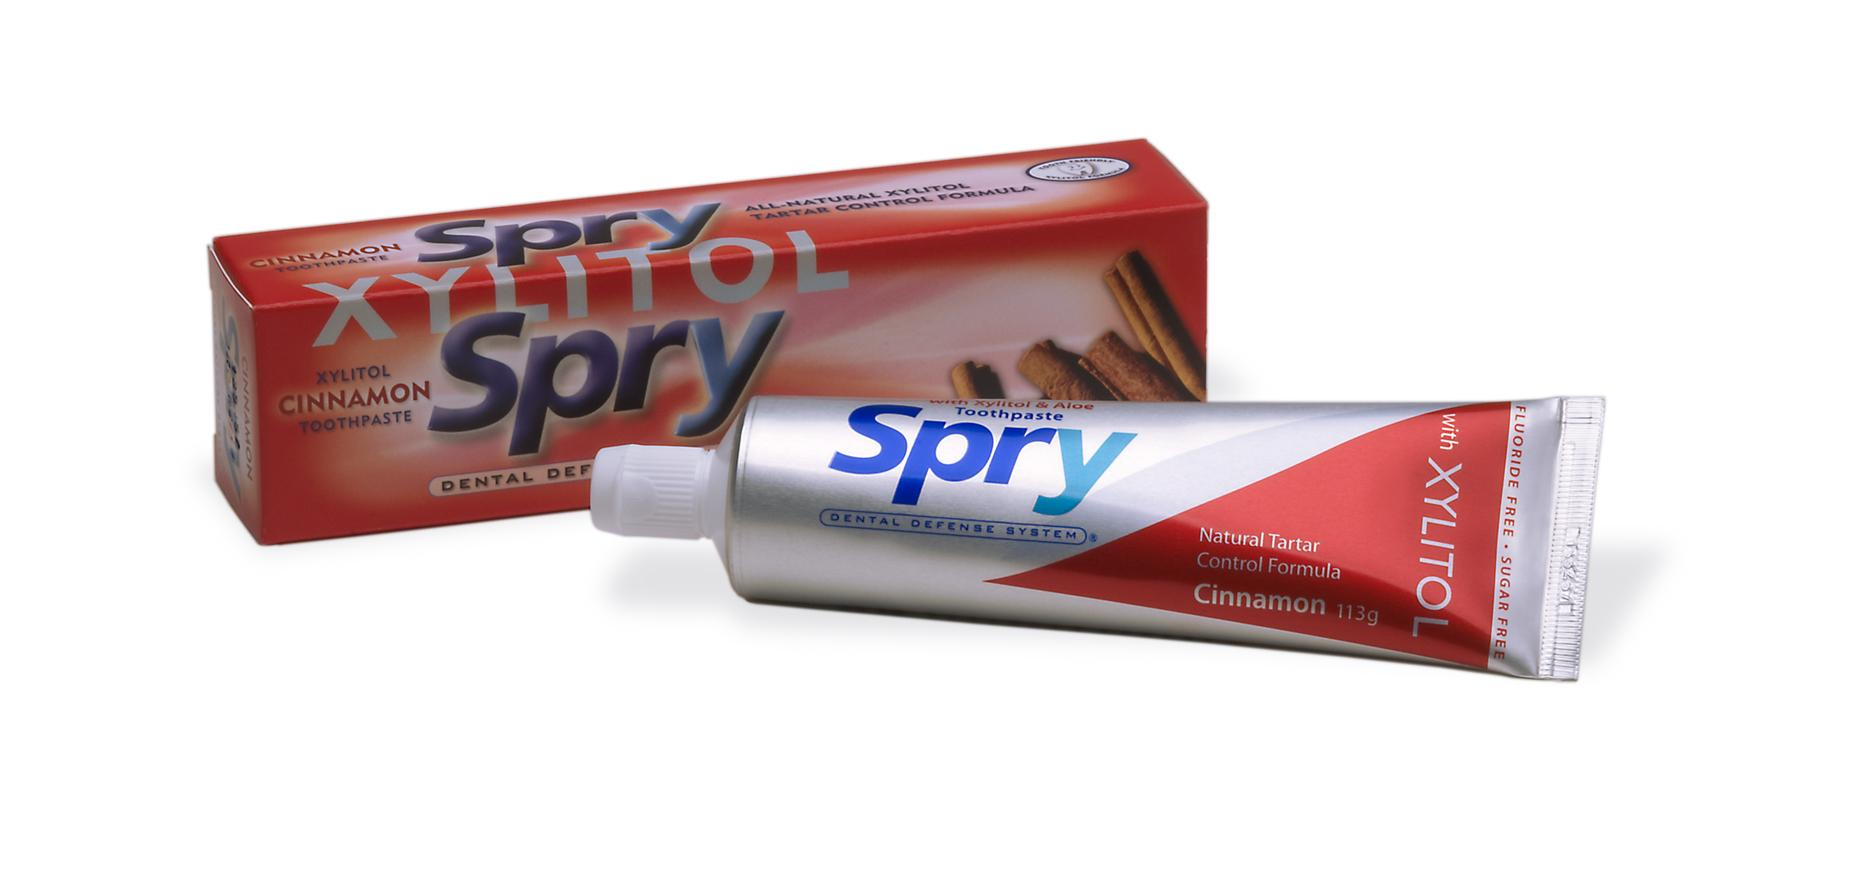toothpaste: (594, 364, 1683, 706)
